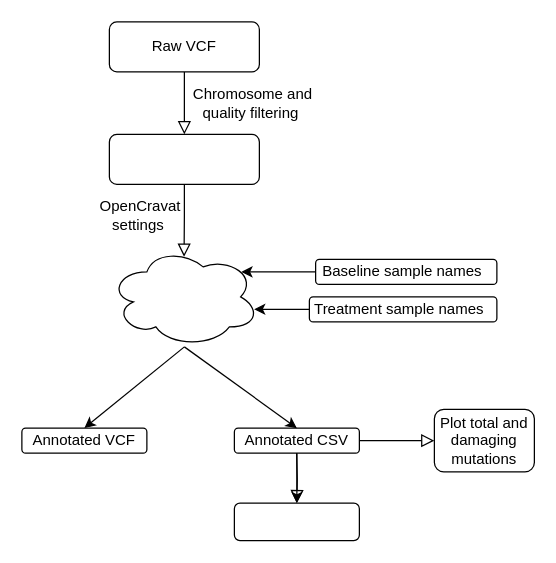
This 556x563 diagram has some shape labels left out. Each missing label, with the box of its shape:
Filtered VCF: (108, 133, 259, 184)
MAF file and MAF tools script: (233, 502, 359, 541)
OpenCravat API: (108, 246, 259, 347)
